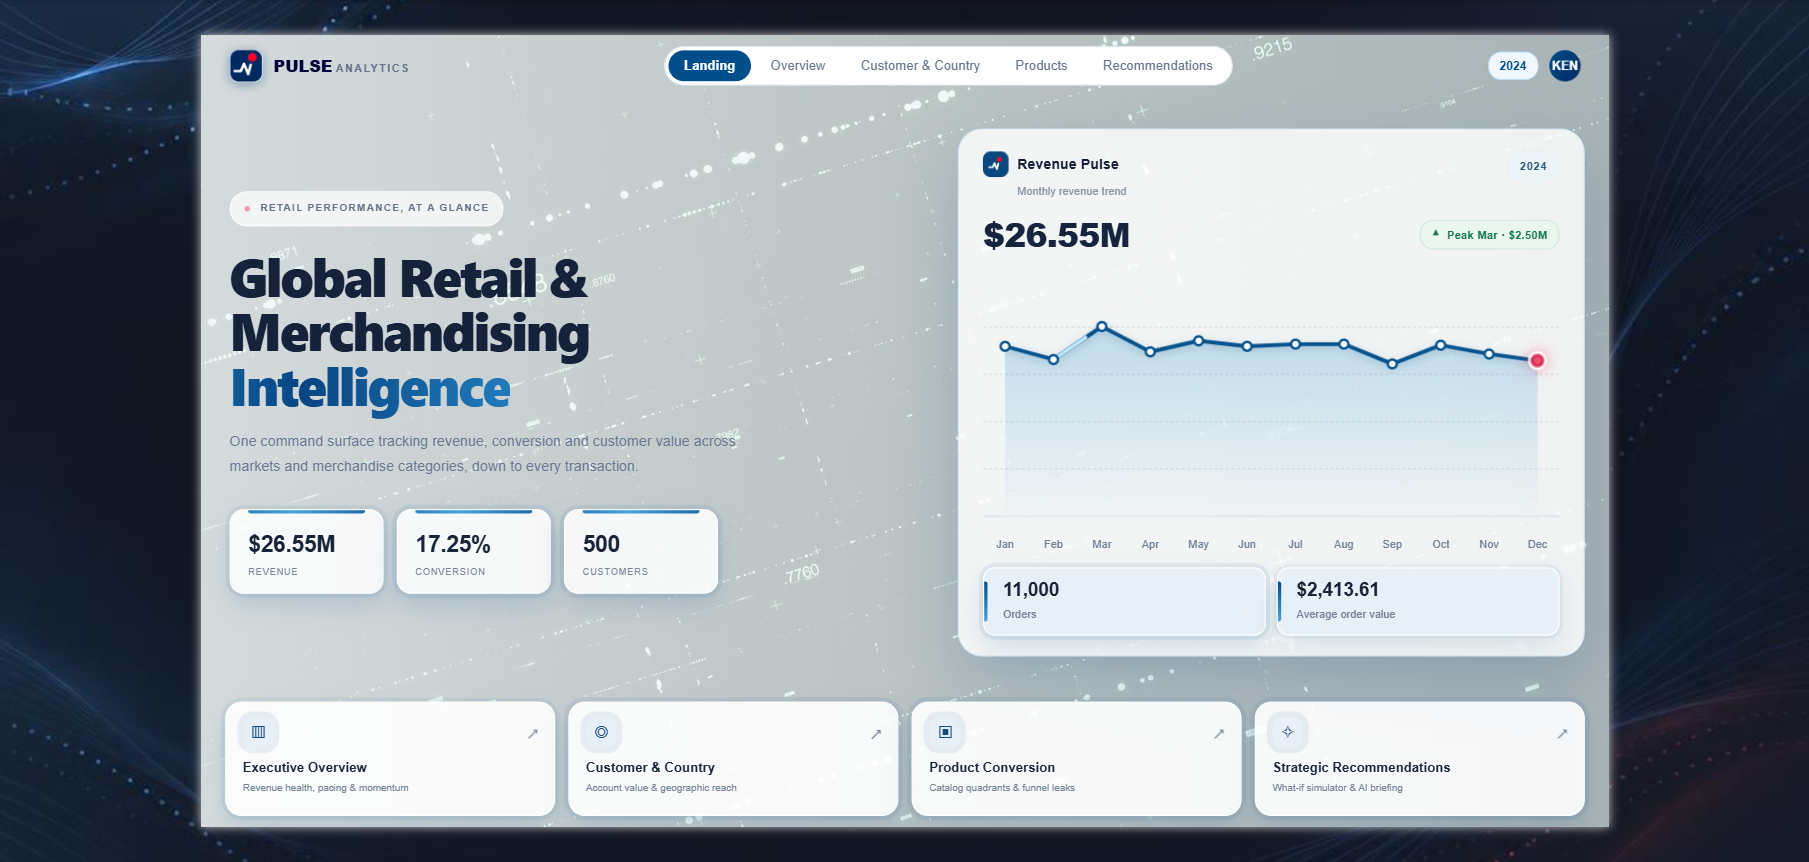

The dashboard page shown, as its layout file describes it:
{"tool":"powerbi","page":{"name":"Landing Page","canvas":[1280,720],"ordinal":0},"visuals":[{"type":"htmlContent443BE3AD55E043BF878BED274D3A6855","fields":{"content":["HTML_Visuals.Landing_Page"]},"box":[0,0,1280,720],"z":0}]}

Visuals, with their boxes on the page's 1280x720 design canvas (x1, y1, x2, y2). These are canvas units, not pixel positions in the 1809x862 screenshot, which may show the page scaled, cropped or inside an application window:
htmlContent443BE3AD55E043BF878BED274D3A6855 - HTML_Visuals.Landing_Page: <bbox>0, 0, 1280, 720</bbox>
